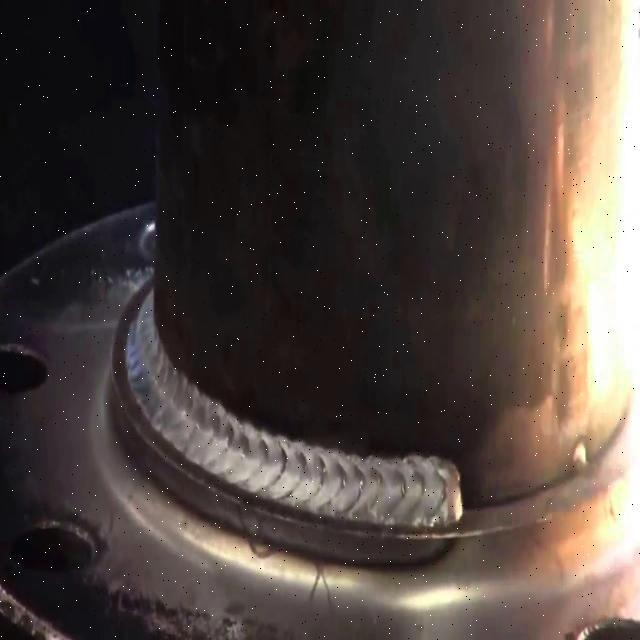Good Welding: (126, 281, 464, 529)
